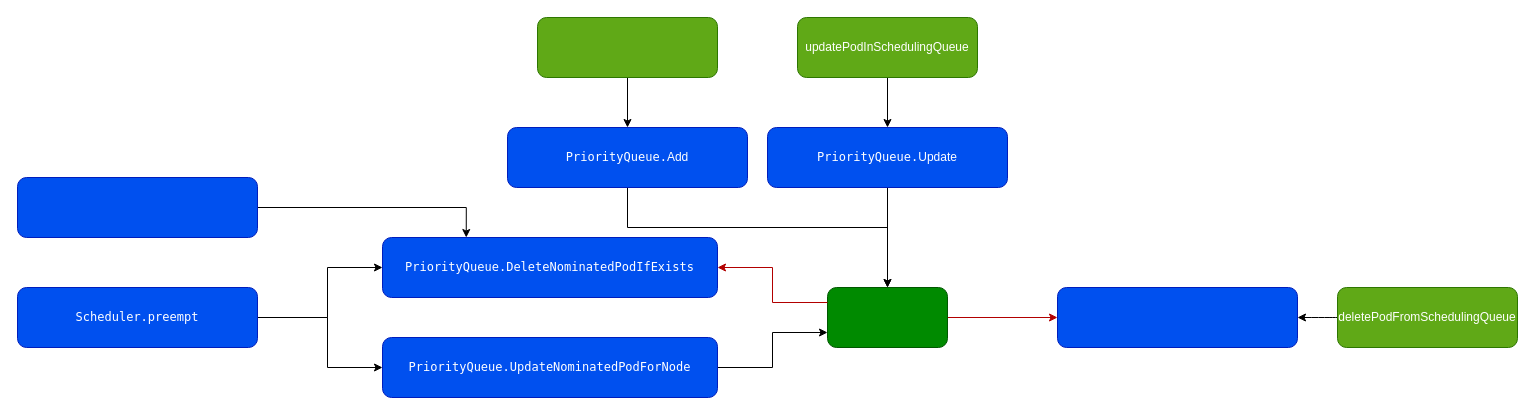
Image size: 1535x415. Some labels were removed from this diagram. The centre of each missing label's shape, as x and y in pixels:
addPodToSchedulingQueue: the point at 627,47
nominatedPods: the point at 887,317
PriorityQueue. Delete: the point at 1177,317
Scheduler. assume: the point at 137,207
